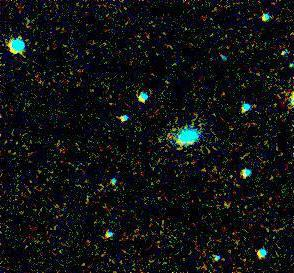star: (248, 181, 278, 211)
